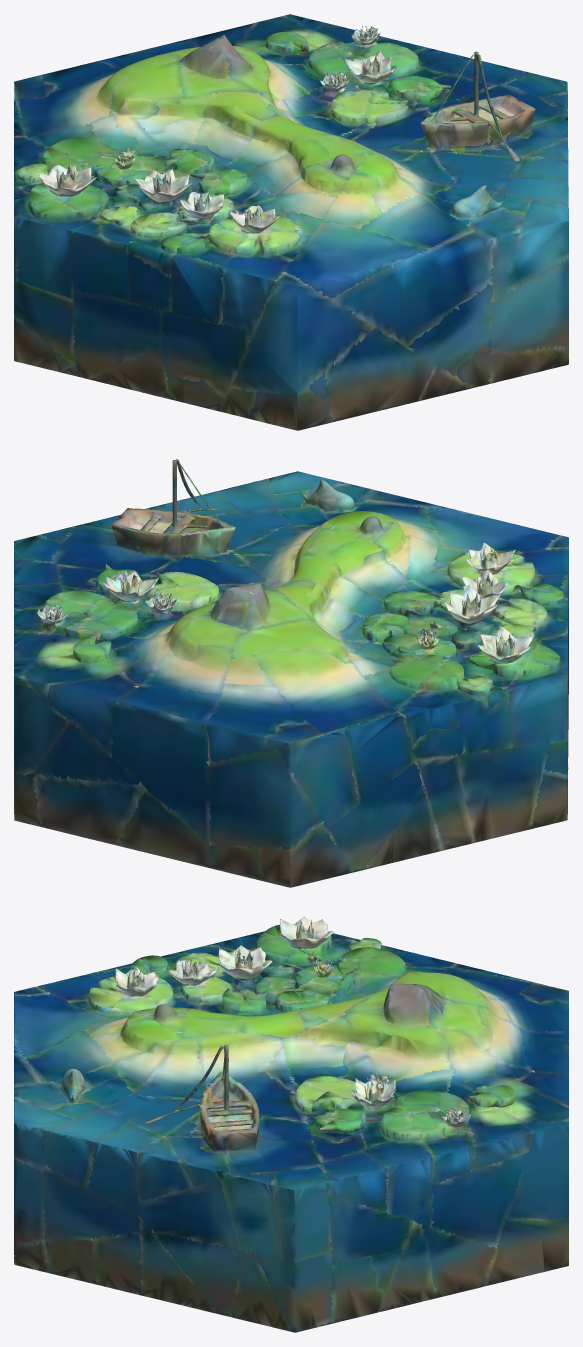
Rendered from watertile_lv3.glb.
The picture shows the model from 3 angles, top to bottom: view 1: azimuth 30°, elevation 25°; view 2: azimuth 150°, elevation 25°; view 3: azimuth 270°, elevation 25°; orthographic projection.
Size of the model in its own units: 1.9 by 0.7534 by 1.67.
Materials: 1 (1 with a texture image).
